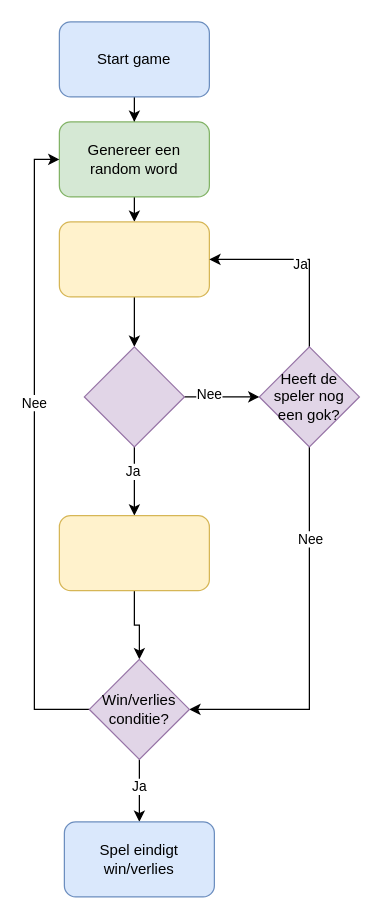
The diagram is 381 pixels wide and 919 high, and some of its shapes have lost their labels. The shapes that lost their labels are listed below. From the top down, each one's centre as x and y in pixels, then its label:
At pixel 133 259: "Speler gokt een word".
At pixel 133 396: "Correct?".
At pixel 133 552: "Speler grijpt een bal".
